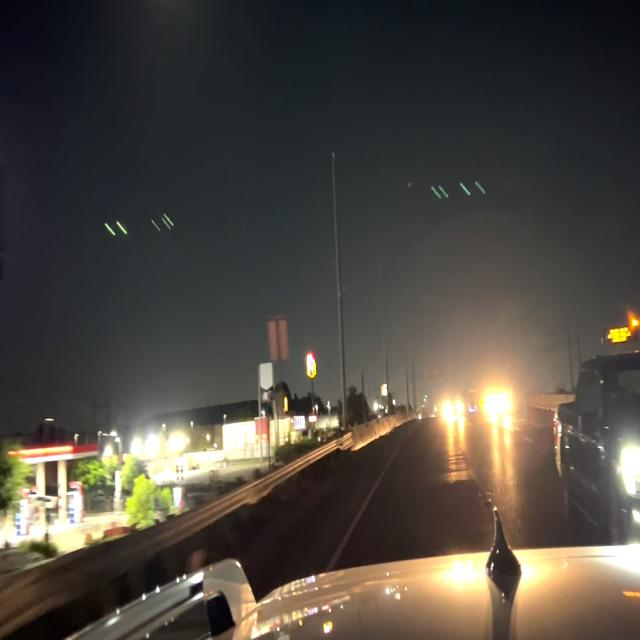back-of-sign: (268, 315, 288, 364)
